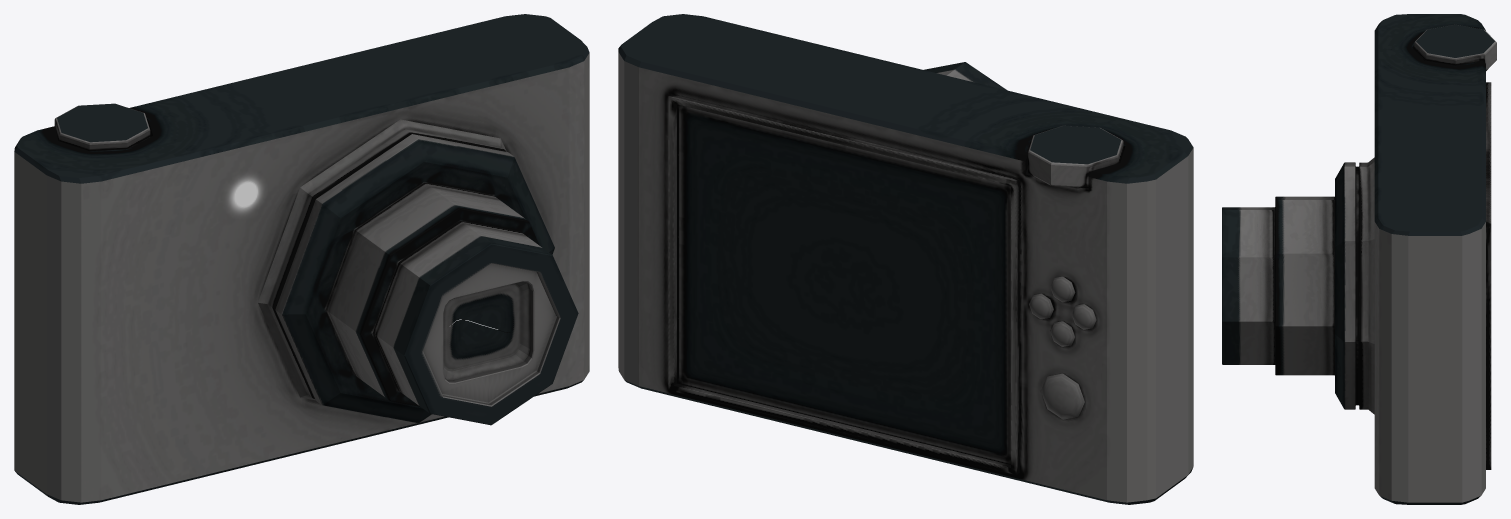
The model's file is camera_f5xo.glb.
The picture shows the model from 3 angles, left to right: view 1: azimuth 30°, elevation 25°; view 2: azimuth 150°, elevation 25°; view 3: azimuth 270°, elevation 25°; orthographic projection. The views are drawn at different scales.
Parts seen in each view (by area): view 1: Sphere.004_Sphere.005; view 2: Sphere.004_Sphere.005; view 3: Sphere.004_Sphere.005.
Boxes of the visible parts, box(x1,y1,x2,y2) form: Sphere.004_Sphere.005: box(14, 14, 589, 504); Sphere.004_Sphere.005: box(618, 14, 1193, 504); Sphere.004_Sphere.005: box(1222, 14, 1496, 504).
Bounding box in the file's own units: 9.34 × 5.54 × 4.94.
Materials: 1 (1 with a texture image).
